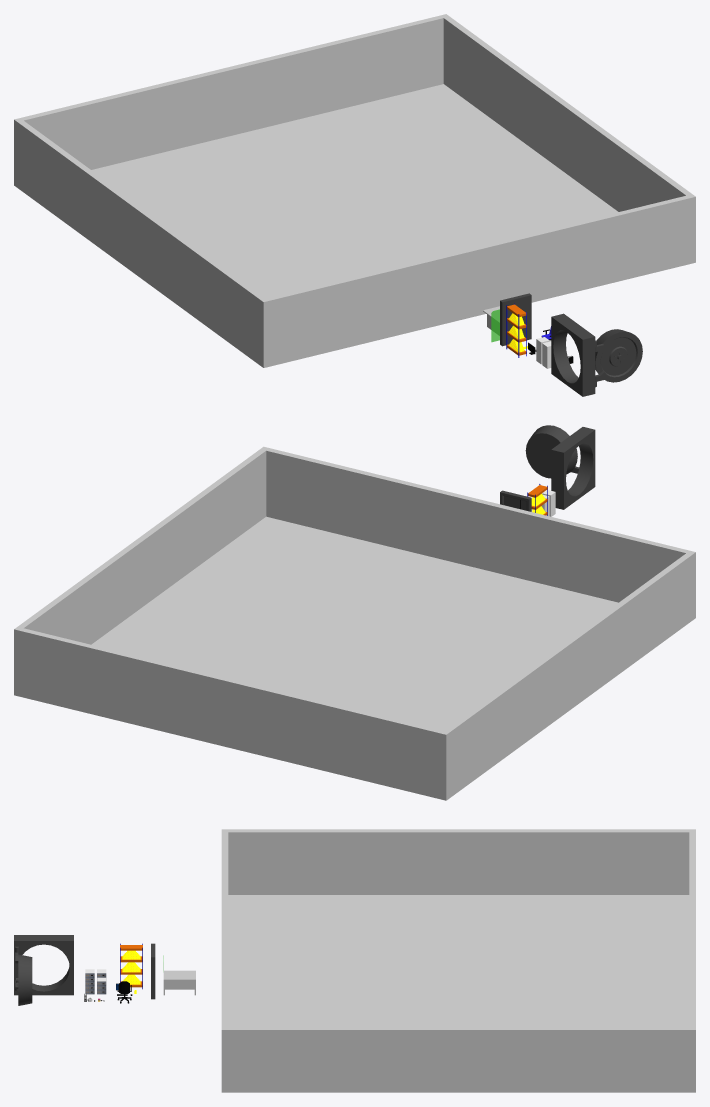
Rendered from bank.fbx.
The picture shows the model from 3 angles, top to bottom: view 1: azimuth 30°, elevation 25°; view 2: azimuth 150°, elevation 25°; view 3: azimuth 270°, elevation 25°; orthographic projection. The views are drawn at different scales.
Visible parts, largest first — view 1: bank, safe door, door; view 2: bank, safe door; view 3: bank, safe door, admin_table, rack.
Part boxes in pixels (x1,y1,x2,y2): bank: (14,14,695,367); safe door: (551,313,642,396); door: (500,293,531,346); bank: (14,446,695,800); safe door: (525,425,595,509); bank: (221,829,695,1092); safe door: (14,935,73,1005); admin_table: (163,970,195,995); rack: (120,943,142,989).
Size of the model in its own units: 2058 by 300 by 2959.
13 materials, 3 textured.
